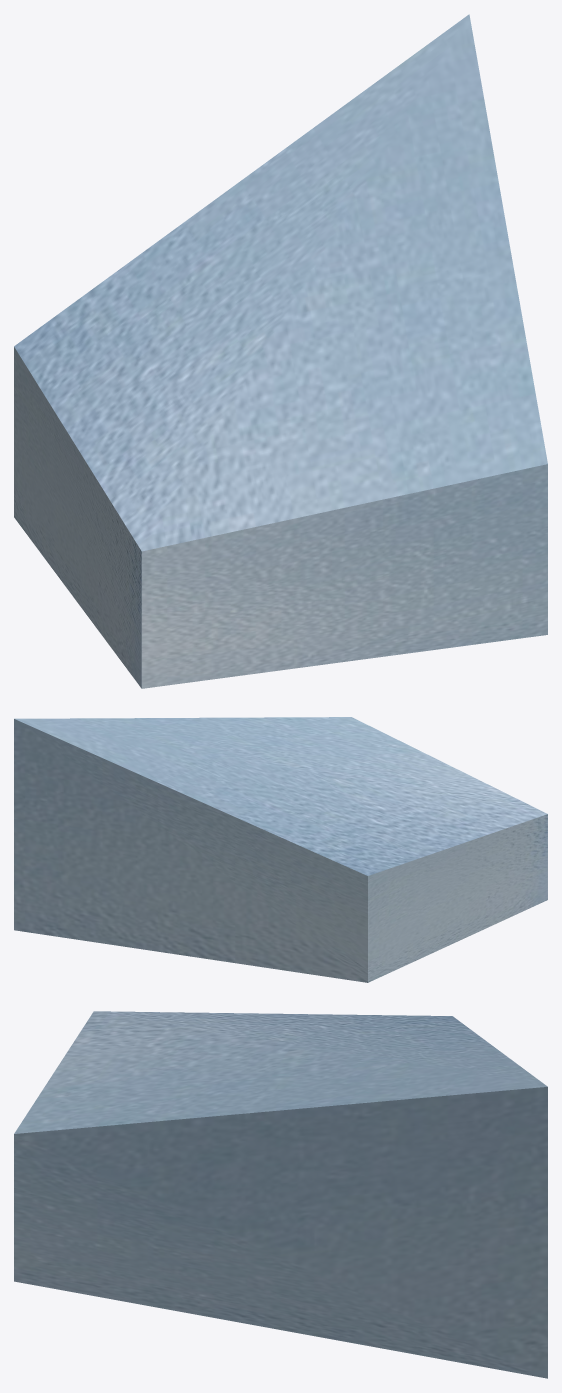
Rendered from SalaPays-OLD.gltf.
3 renders of one model, top to bottom at view 1: azimuth 30°, elevation 25°; view 2: azimuth 150°, elevation 25°; view 3: azimuth 270°, elevation 25°, orthographic. The views are drawn at different scales.
Parts seen in each view (by area): view 1: SalaPays; view 2: SalaPays; view 3: SalaPays.
Part boxes in pixels (left/top/right/bottom): SalaPays: left=14, top=14, right=547, bottom=688; SalaPays: left=14, top=717, right=547, bottom=982; SalaPays: left=14, top=1011, right=547, bottom=1378.
Size of the model in its own units: 0.7733 by 0.423 by 0.7013.
1 material, 1 textured.
